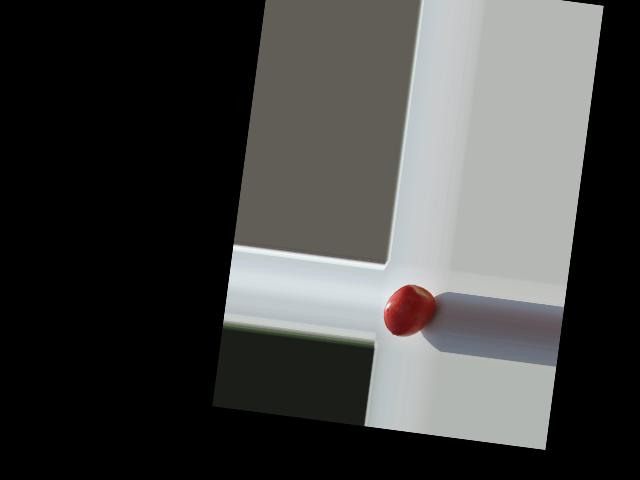tomato: (381, 281, 437, 340)
